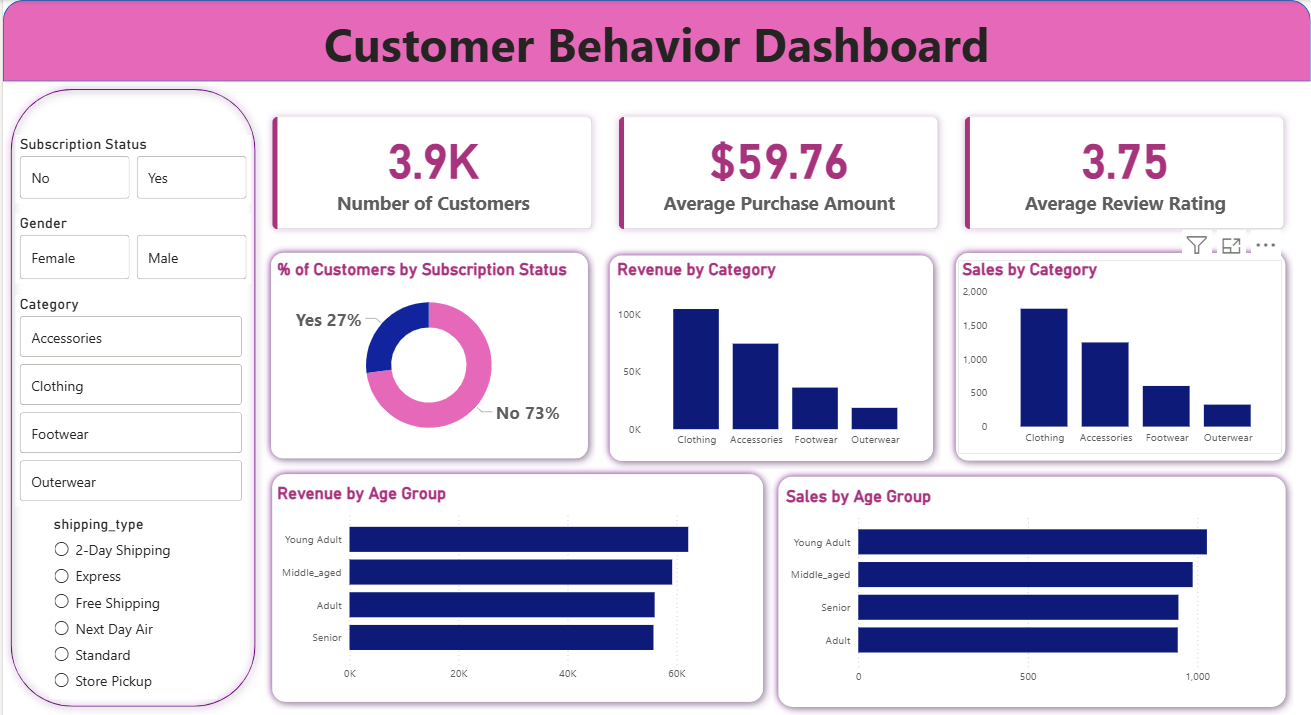

What the dashboard file says about the page in this screenshot:
{"tool":"powerbi","page":{"name":"Page 1","canvas":[1500,820],"ordinal":0},"visuals":[{"type":"cardVisual","fields":{"Data":["public customer.Number of Customers","public customer.Average Purchase Amount","public customer.Average Review Rating"]},"box":[280.7,105.5,1219.6,185.7],"z":0},{"type":"shape","box":[0,0,1500.3,93.6],"z":1000},{"type":"textbox","box":[0,8.9,1500.3,96.6],"z":2000},{"type":"shape","box":[298.6,280.7,381.8,254],"z":3000},{"type":"donutChart","title":"% of Customers by Subscription Status","fields":{"Category":["public customer.subscription_status"],"Y":["CountNonNull(public customer.customer_id)"]},"box":[310.5,298.6,358,219.8],"z":4000},{"type":"shape","box":[686.3,283.7,389.2,254],"z":5000},{"type":"shape","box":[1084,280.9,396.3,256.6],"z":6000},{"type":"clusteredColumnChart","title":"Revenue by Category","fields":{"Y":["Sum(public customer.purchase_amount)"],"Category":["public customer.category"]},"box":[699.6,298.6,361,224.3],"z":7000},{"type":"clusteredColumnChart","title":"Sales by Category","fields":{"Y":["CountNonNull(public customer.customer_id)"],"Category":["public customer.category"]},"box":[1096.3,298.6,371.4,221.3],"z":8000},{"type":"shape","box":[0,93.6,298.6,726.4],"z":9000},{"type":"advancedSlicerVisual","title":"Subscription Status","fields":{"Values":["public customer.subscription_status"]},"box":[14.9,154.5,270.4,78.7],"z":10000},{"type":"advancedSlicerVisual","title":"Gender","fields":{"Values":["public customer.gender"]},"box":[14.9,245.1,270.4,80.2],"z":11000},{"type":"advancedSlicerVisual","title":"Category","fields":{"Values":["public customer.category"]},"box":[14.9,338.7,265.9,242.1],"z":12000},{"type":"listSlicer","fields":{"Values":["public customer.shipping_type"]},"box":[53.5,591.2,191.6,210.9],"z":13000},{"type":"shape","box":[299.1,534.4,581.5,279.4],"z":14000},{"type":"clusteredBarChart","title":"Revenue by Age Group","fields":{"Category":["public customer.age_group"],"Y":["Sum(public customer.purchase_amount)"]},"box":[310.5,555.6,540.7,236.2],"z":15000},{"type":"shape","box":[880.9,537.7,600.1,282.2],"z":16000},{"type":"clusteredBarChart","title":"Sales by Age Group","fields":{"Category":["public customer.age_group"],"Y":["CountNonNull(public customer.customer_id)"]},"box":[892.8,558.5,574.9,236.2],"z":17000}]}

Visuals, with their boxes in screenshot pixels (x1, y1, x2, y2), scaled from the page's 1500x820 canvas onto the 1311x715 screenshot:
cardVisual - public customer.Number of Customers x public customer.Average Purchase Amount: <region>245, 92, 1310, 254</region>
shape: <region>0, 0, 1310, 82</region>
textbox: <region>0, 8, 1310, 92</region>
shape: <region>261, 245, 595, 466</region>
"% of Customers by Subscription Status" donutChart: <region>271, 260, 584, 452</region>
shape: <region>600, 247, 940, 469</region>
shape: <region>947, 245, 1294, 469</region>
"Revenue by Category" clusteredColumnChart: <region>611, 260, 927, 456</region>
"Sales by Category" clusteredColumnChart: <region>958, 260, 1283, 453</region>
shape: <region>0, 82, 261, 714</region>
"Subscription Status" advancedSlicerVisual: <region>13, 135, 249, 203</region>
"Gender" advancedSlicerVisual: <region>13, 214, 249, 284</region>
"Category" advancedSlicerVisual: <region>13, 295, 245, 506</region>
listSlicer - public customer.shipping_type: <region>47, 515, 214, 699</region>
shape: <region>261, 466, 770, 710</region>
"Revenue by Age Group" clusteredBarChart: <region>271, 484, 744, 690</region>
shape: <region>770, 469, 1294, 714</region>
"Sales by Age Group" clusteredBarChart: <region>780, 487, 1283, 693</region>
